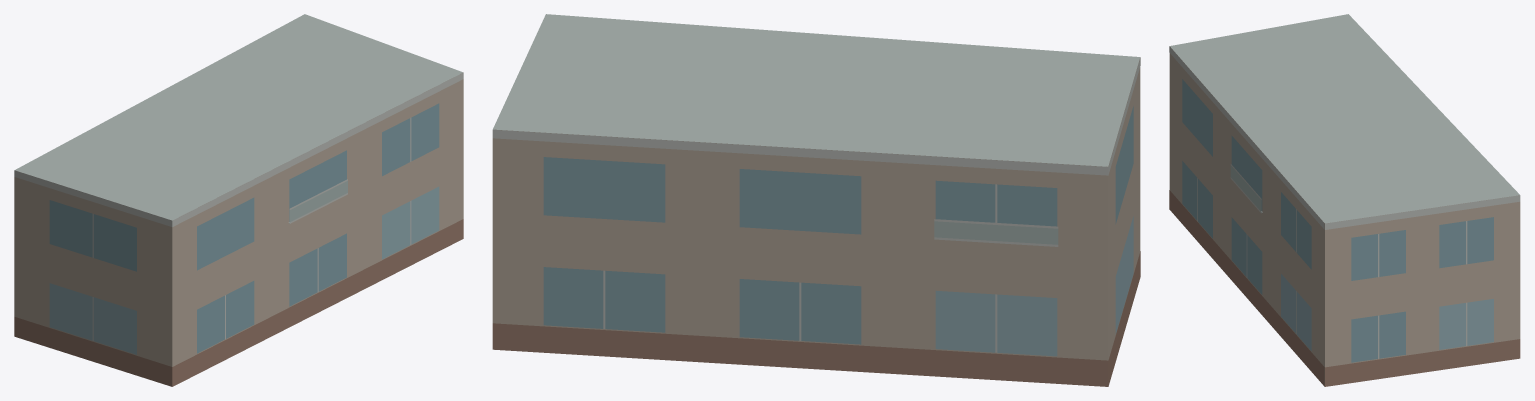
File: survey-upis-32835913.glb
3 views of the same model, side by side, from view 1: azimuth 30°, elevation 25°; view 2: azimuth 150°, elevation 25°; view 3: azimuth 270°, elevation 25° (orthographic). The views are drawn at different scales.
Parts seen in each view (by area): view 1: survey-upis-32835913.tmp; view 2: survey-upis-32835913.tmp; view 3: survey-upis-32835913.tmp.
Part boxes in pixels (<box>): survey-upis-32835913.tmp: <box>14,14,463,386</box>; survey-upis-32835913.tmp: <box>492,14,1140,386</box>; survey-upis-32835913.tmp: <box>1169,14,1520,386</box>.
Bounding box in the file's own units: 16.79 × 6.1 × 11.88.
